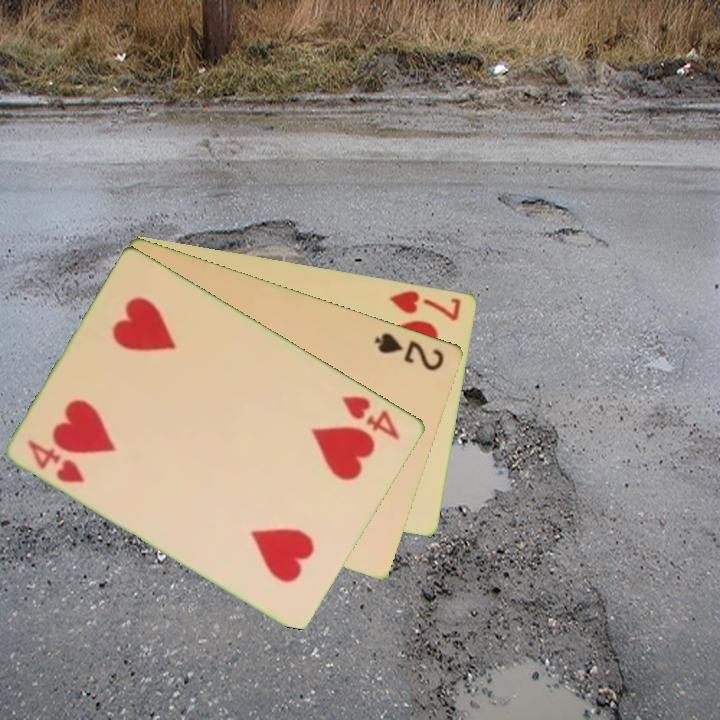2s: (371, 329, 448, 374)
4h: (339, 392, 403, 443), (24, 436, 88, 486)
7h: (387, 286, 465, 324)
